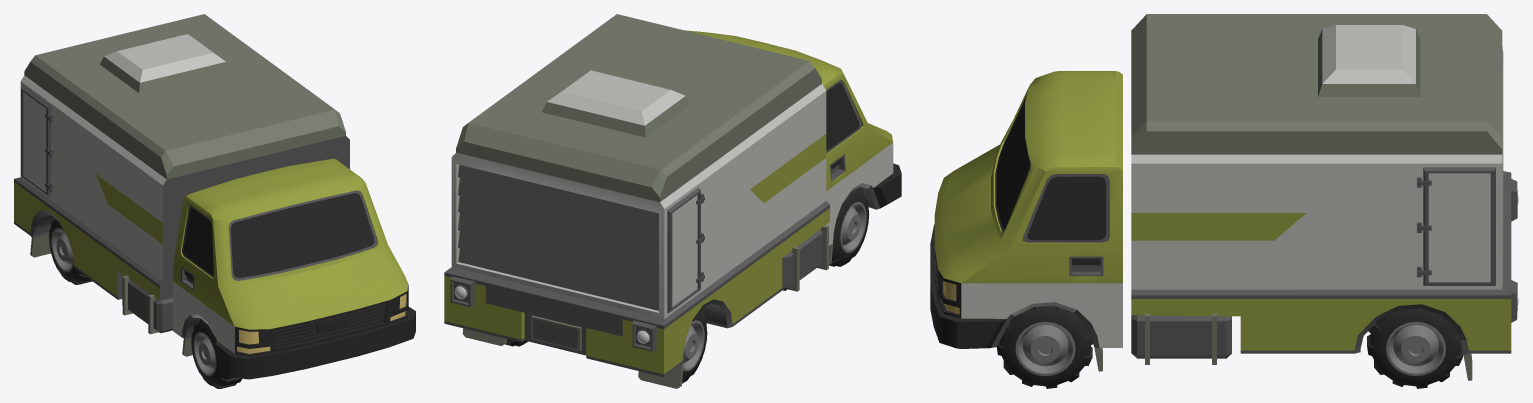
File: truck.glb
The picture shows the model from 3 angles, left to right: view 1: azimuth 30°, elevation 25°; view 2: azimuth 150°, elevation 25°; view 3: azimuth 270°, elevation 25°; orthographic projection. The views are drawn at different scales.
Parts seen in each view (by area): view 1: Truck, FrontWheel_R, BackWheels; view 2: Truck, FrontWheel_R, BackWheels; view 3: Truck, FrontWheel_L, BackWheels.
Boxes of the visible parts, x1,y1,x2,y2 form: Truck: (14, 14, 415, 379); FrontWheel_R: (191, 318, 241, 388); BackWheels: (49, 218, 92, 284); Truck: (444, 14, 901, 388); FrontWheel_R: (829, 187, 869, 266); BackWheels: (505, 309, 707, 383); Truck: (930, 14, 1518, 380); FrontWheel_L: (996, 305, 1093, 388); BackWheels: (1367, 308, 1463, 388).
Size of the model in its own units: 3.09 by 3.29 by 6.
3 materials, 1 textured.
